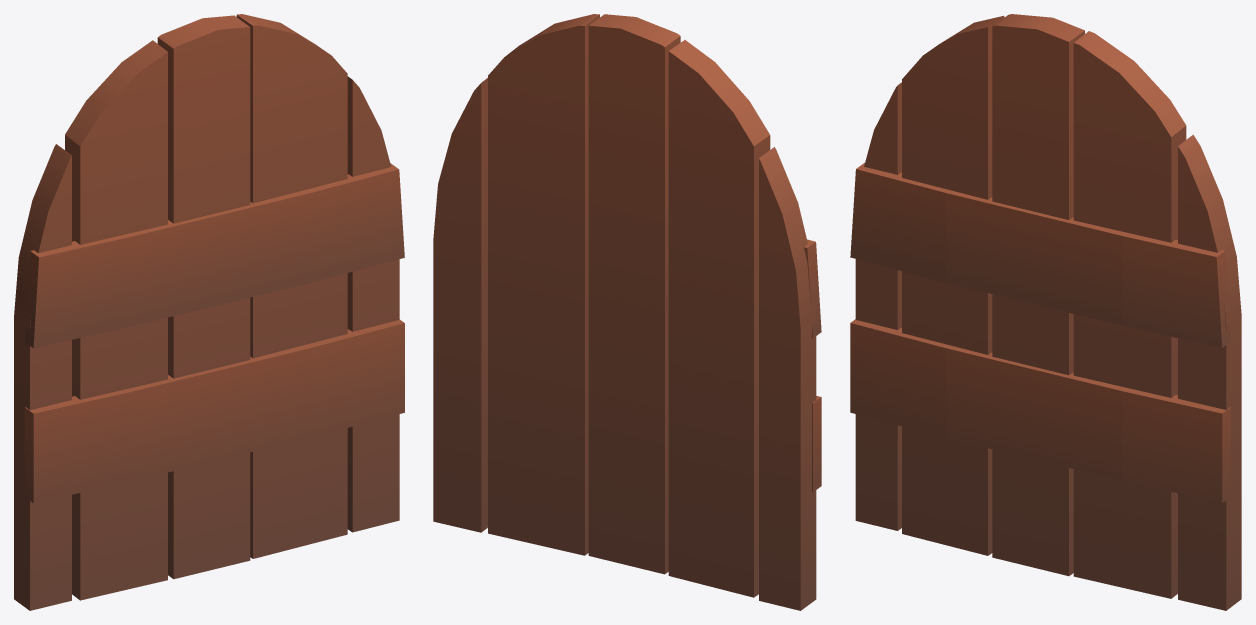
File: Door.fbx
The picture shows the model from 3 angles, left to right: view 1: azimuth 30°, elevation 25°; view 2: azimuth 150°, elevation 25°; view 3: azimuth 330°, elevation 25°; orthographic projection.
Parts seen in each view (by area): view 1: Door.002; view 2: Door.002; view 3: Door.002.
Boxes of the visible parts, x1=… form: Door.002: x1=14, y1=14, x2=404, y2=610; Door.002: x1=433, y1=14, x2=821, y2=610; Door.002: x1=850, y1=14, x2=1241, y2=610.
Bounding box in the file's own units: 90.27 × 125 × 9.48.
